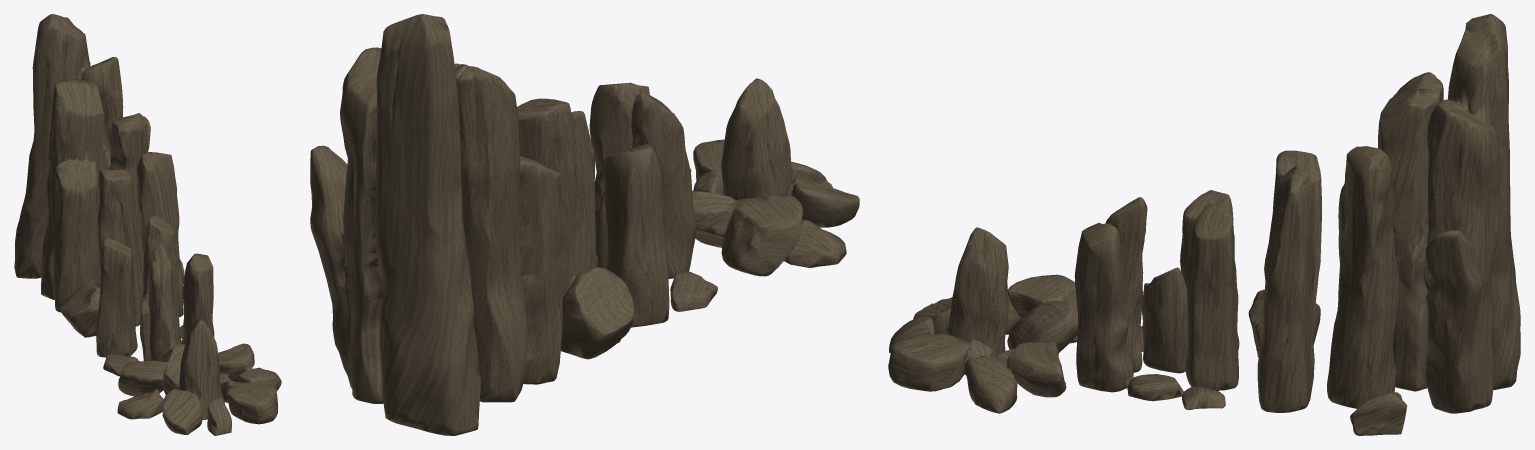
The model's file is links_basalt_columns.eab5ae99.glb.
3 renders of one model, left to right at view 1: azimuth 30°, elevation 25°; view 2: azimuth 150°, elevation 25°; view 3: azimuth 270°, elevation 25°, orthographic. The views are drawn at different scales.
Size of the model in its own units: 0.9147 by 1.2 by 1.9.
1 material, 1 textured.
